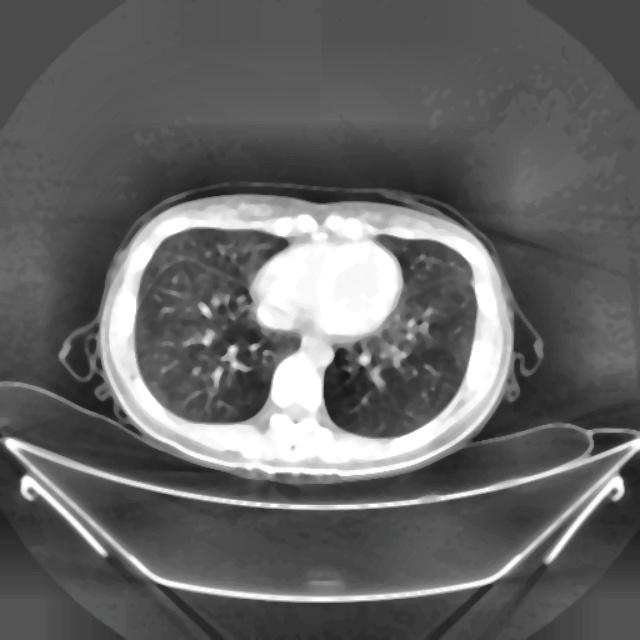covid: (61, 181, 539, 485)
